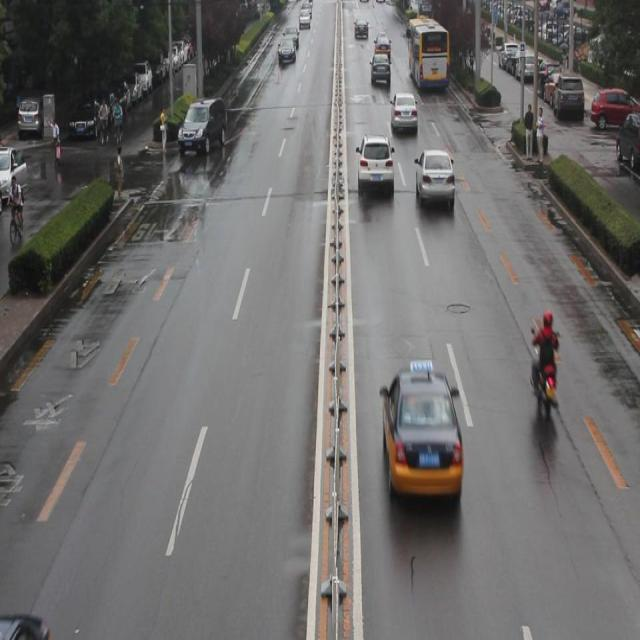car: (381, 357, 462, 507), (415, 150, 453, 206), (357, 134, 392, 194), (389, 92, 417, 137)
truck: (177, 94, 224, 155)
